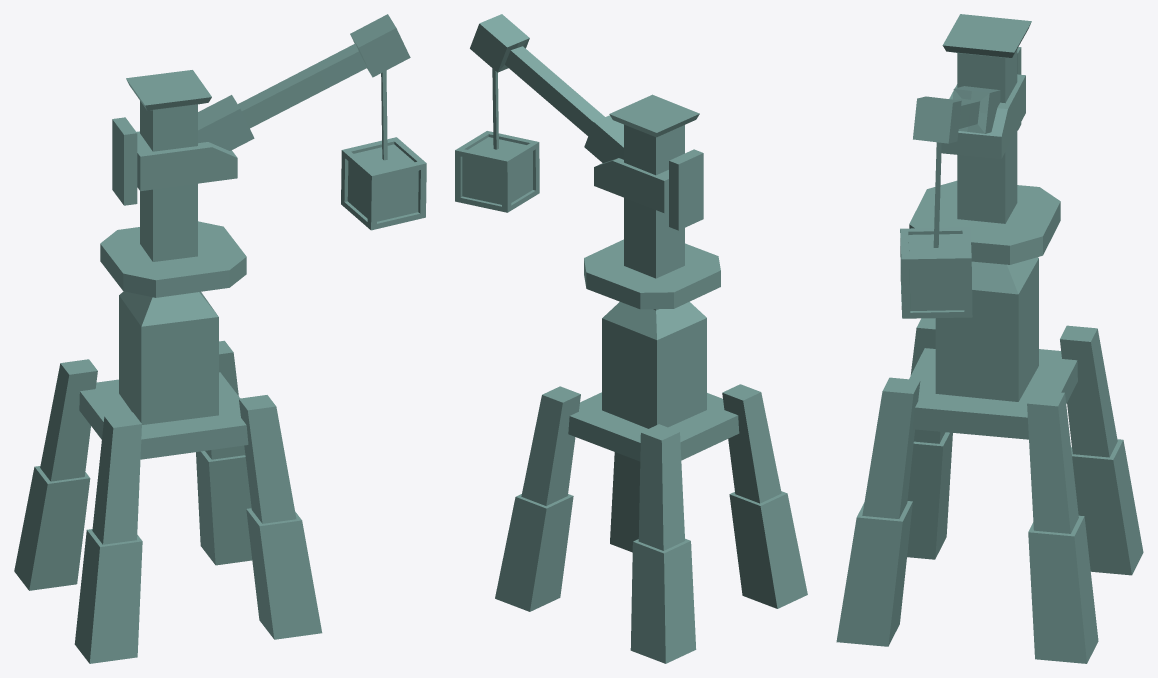
Rendered from crane.fbx.
The picture shows the model from 3 angles, left to right: view 1: azimuth 30°, elevation 25°; view 2: azimuth 150°, elevation 25°; view 3: azimuth 270°, elevation 25°; orthographic projection. The views are drawn at different scales.
Visible parts, largest first — view 1: crane and box; view 2: crane and box; view 3: crane and box.
Part boxes in pixels (x1=…): crane and box: x1=14, y1=14, x2=426, y2=663; crane and box: x1=455, y1=14, x2=807, y2=663; crane and box: x1=836, y1=14, x2=1143, y2=663.
Bounding box in the file's own units: 2071 × 3188 × 1472.
